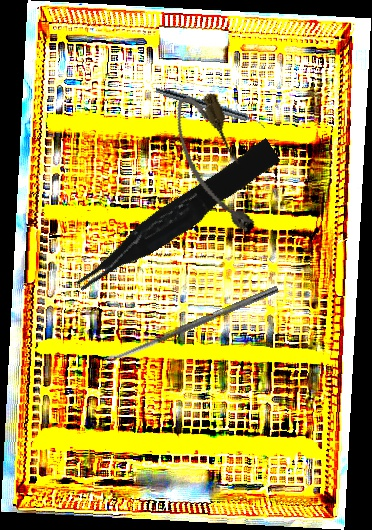Cannula: (165, 87, 265, 243)
Handpiece: (153, 85, 268, 130)
Surgical Spoon: (102, 284, 280, 366)
Tissue Forceps: (65, 138, 286, 295)
